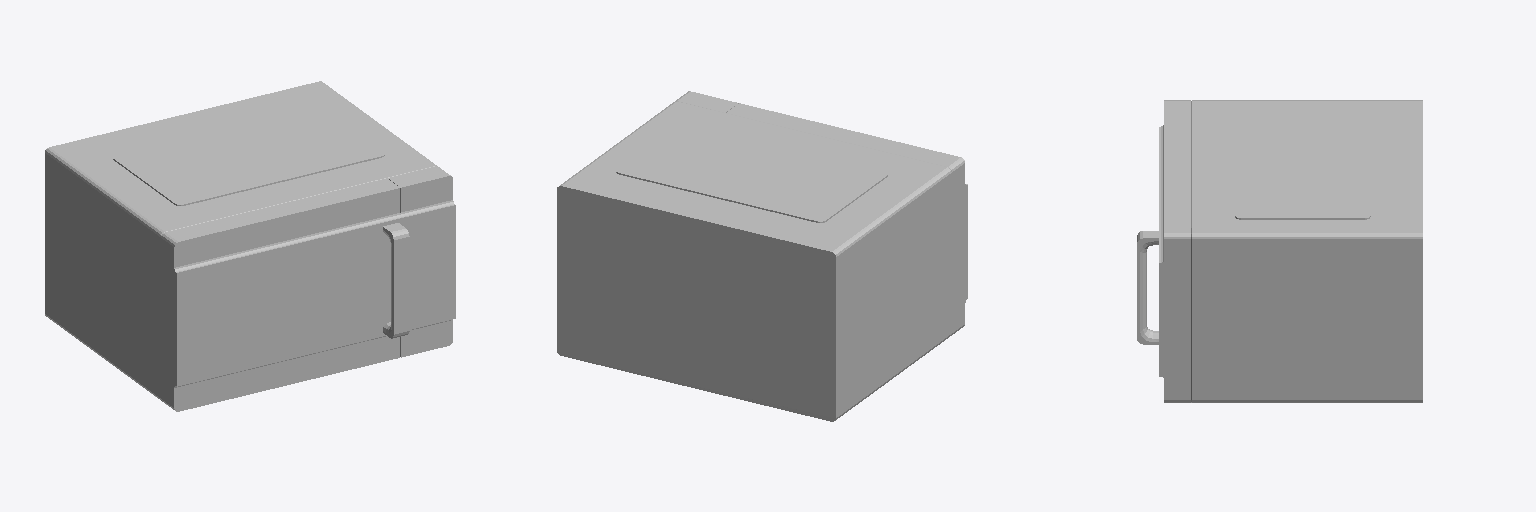
The model's file is Microwave.obj.
The picture shows the model from 3 angles: view 1: azimuth 30°, elevation 25°; view 2: azimuth 150°, elevation 25°; view 3: azimuth 270°, elevation 25°; orthographic projection.
Visible parts, largest first — view 1: defaultMaterial.003, defaultMaterial.001, defaultMaterial.002; view 2: defaultMaterial.003, defaultMaterial.001; view 3: defaultMaterial.003, defaultMaterial.001, defaultMaterial.002.
Part boxes in pixels (left/top/right/bottom): defaultMaterial.003: left=45, top=81, right=455, bottom=400; defaultMaterial.001: left=161, top=178, right=402, bottom=411; defaultMaterial.002: left=383, top=223, right=409, bottom=338; defaultMaterial.003: left=557, top=91, right=951, bottom=421; defaultMaterial.001: left=726, top=103, right=967, bottom=335; defaultMaterial.003: left=1159, top=100, right=1422, bottom=402; defaultMaterial.001: left=1159, top=100, right=1190, bottom=236; defaultMaterial.002: left=1137, top=231, right=1158, bottom=344.
Size of the model in its own units: 55 by 34.23 by 48.84.